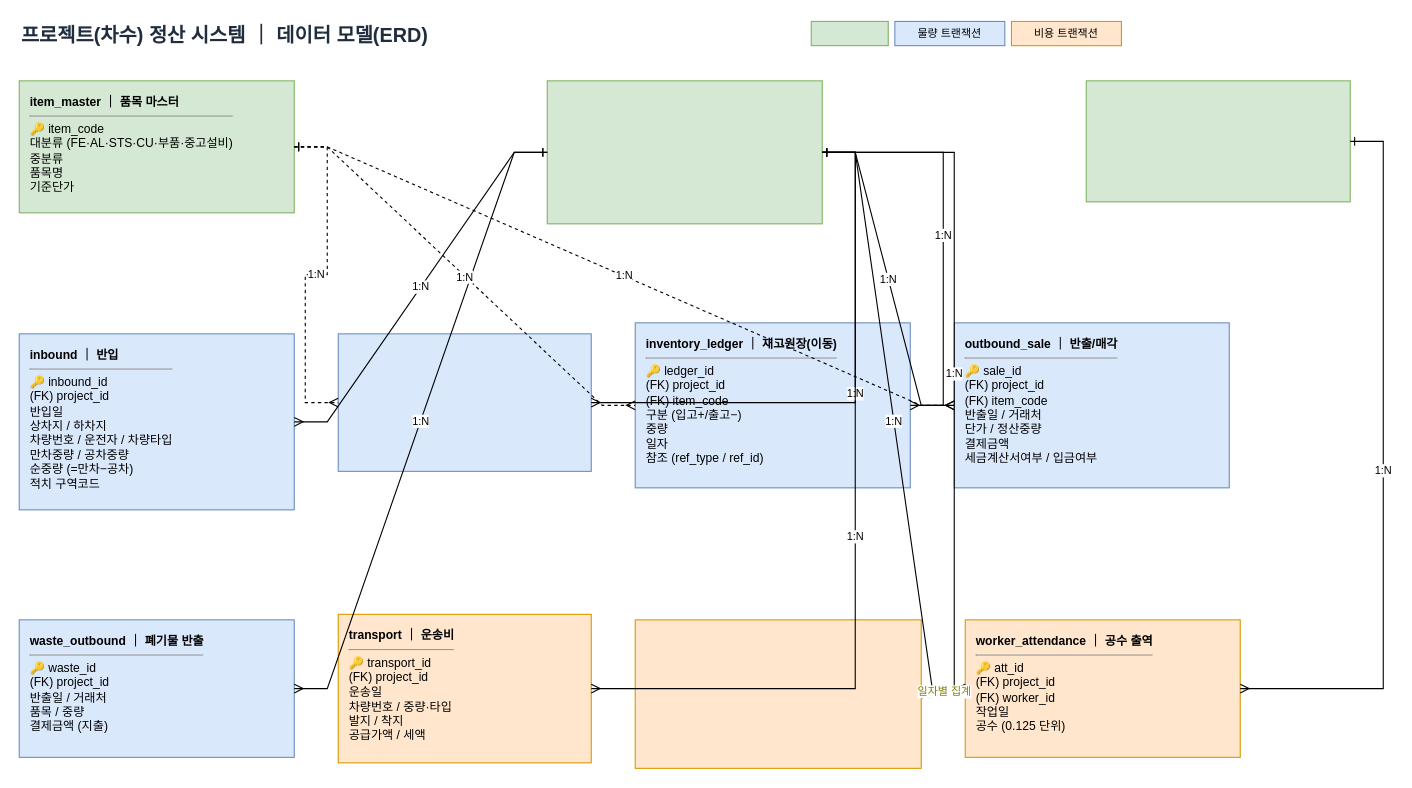
The diagram is 1412 pixels wide and 788 high, and some of its shapes have lost their labels. Each missing label, with the box of its shape:
labor ｜ 인건비(일 집계) 🔑 labor_id (FK) project_id 작업일 공수합계 인건비/식대/공도구/유류대/소모품 합계금액: (634, 619, 921, 768)
project ｜ 프로젝트(차수) 🔑 project_id 차수명 (26-1차) 매입처 (이텍솔루션) 매입가 시작일 / 종료일 상태 (진행/완료): (546, 80, 822, 224)
sorting ｜ 선별/분류 🔑 sort_id (FK) project_id (FK) item_code 분류일 분류중량: (337, 333, 591, 471)
worker ｜ 작업자 🔑 worker_id 소속 (본사·직영·겨를) 이름 일당(노임): (1085, 80, 1350, 202)
마스터: (810, 20, 888, 46)
